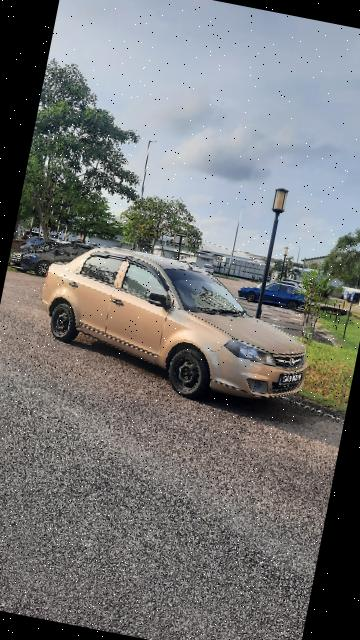License_Plate: (277, 366, 312, 393)
car: (21, 229, 330, 421)
